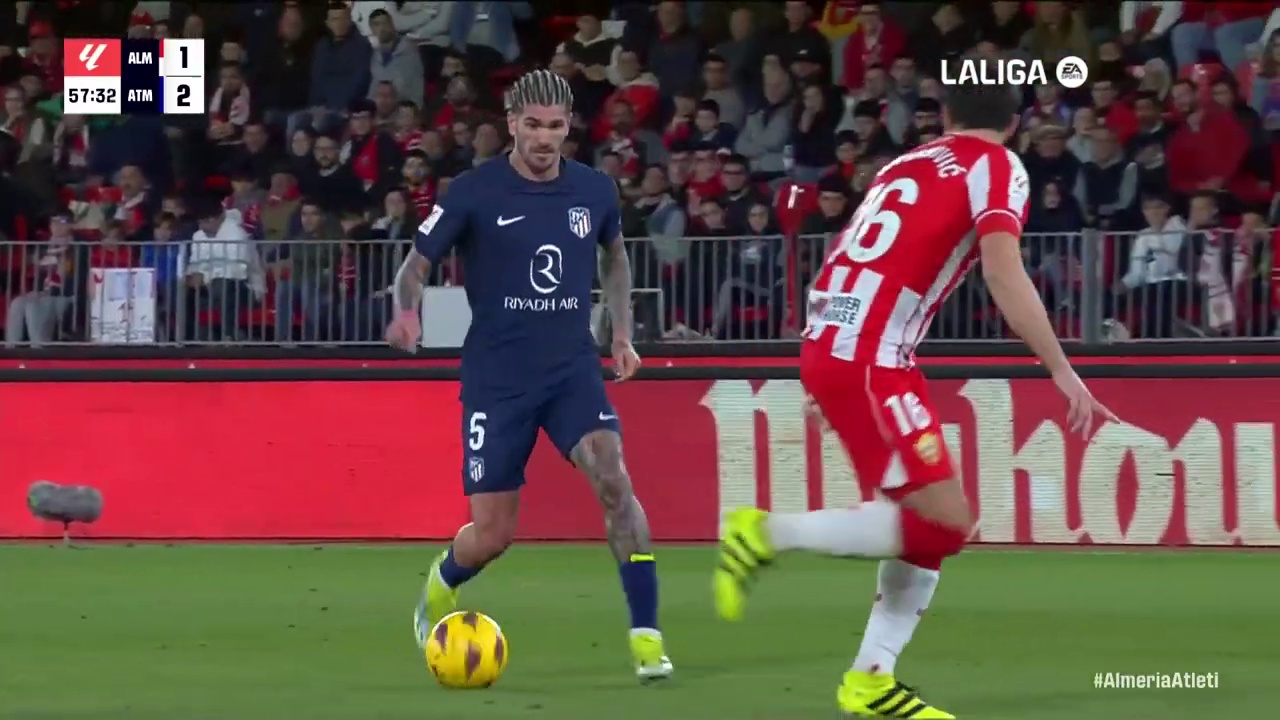ball: (544, 608, 582, 644)
